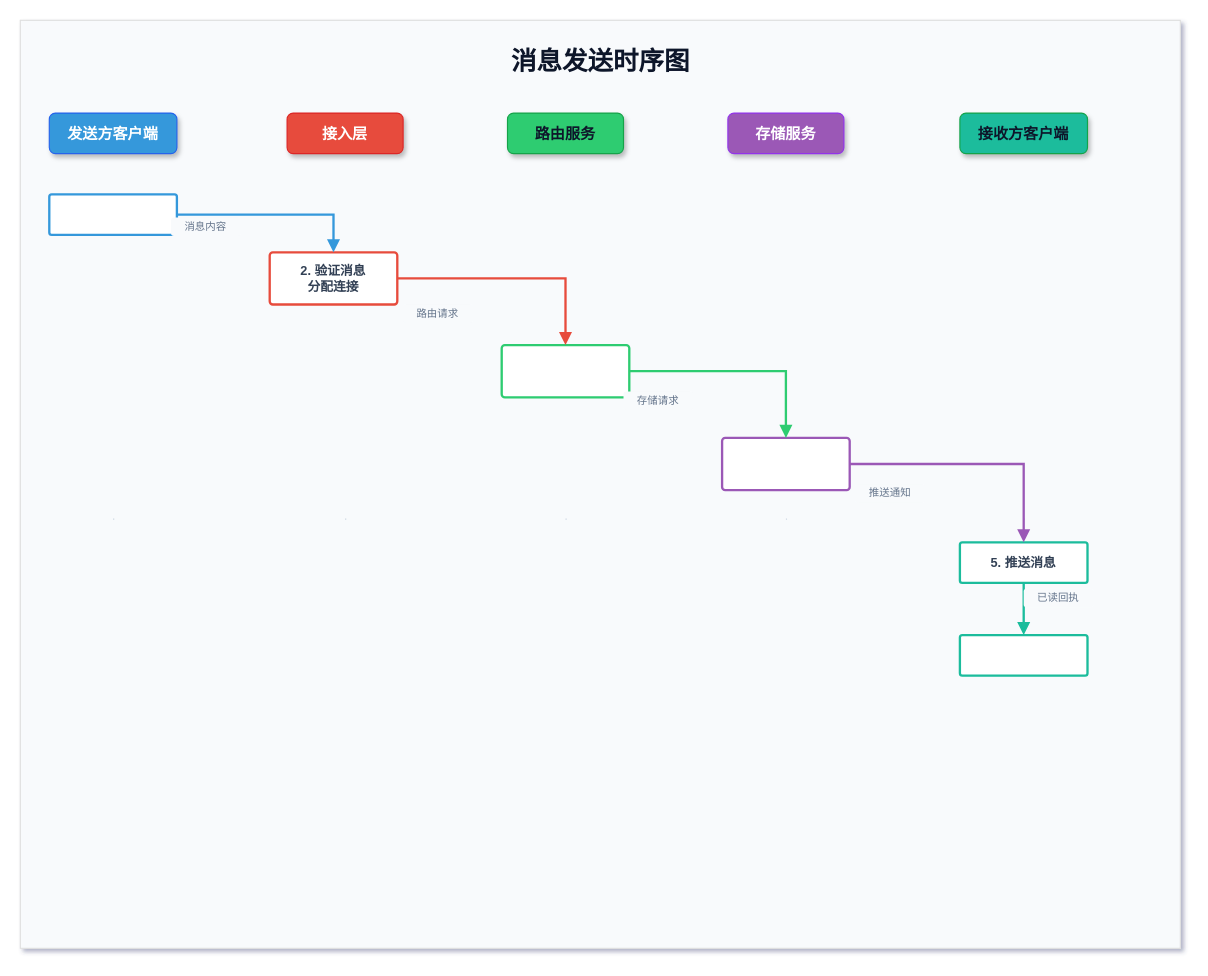
Some shapes in this 1208 by 976 pixel diagram are drawn without their labels. Each missing label, with the centre of its shape:
1. 发送消息: (x=112, y=214)
3. 路由查询 目标定位: (x=565, y=370)
4. 存储消息 持久化: (x=785, y=463)
6. 已读回执: (x=1023, y=654)
